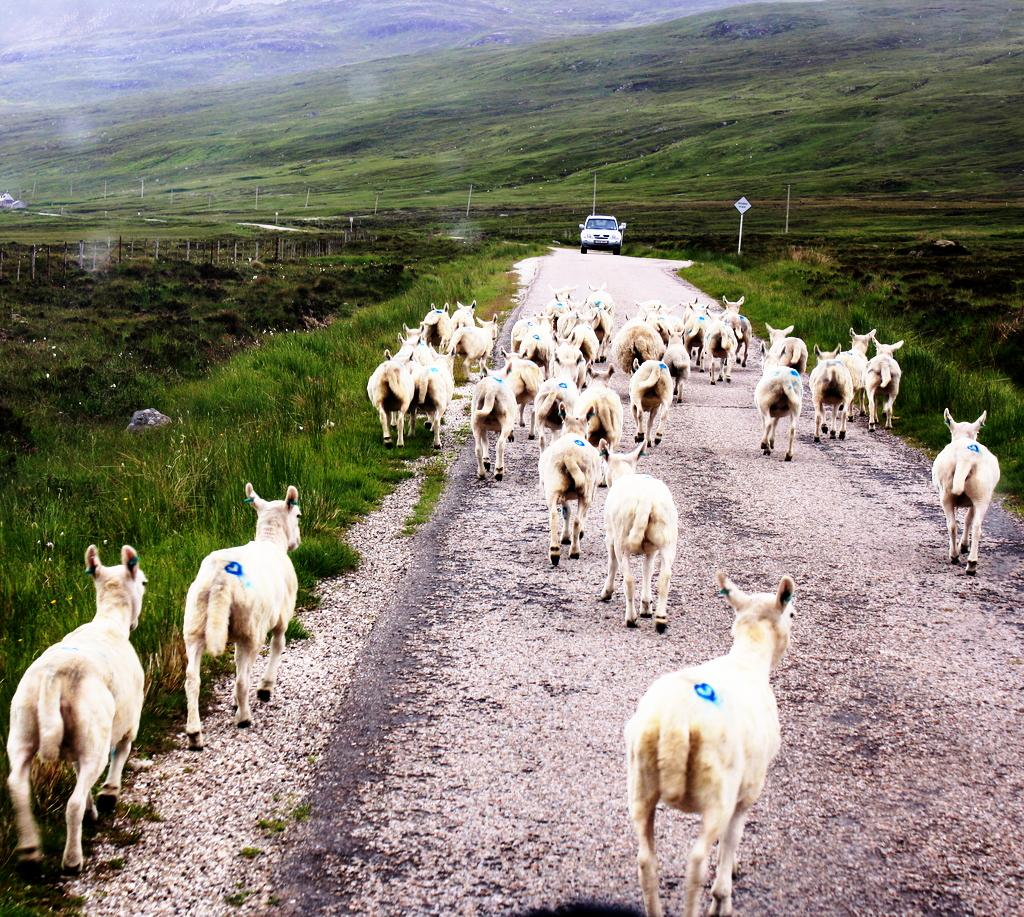Sheep: (618, 570, 793, 914), (2, 543, 146, 882), (180, 483, 303, 749), (594, 438, 680, 636), (926, 404, 1000, 574), (536, 397, 602, 567), (743, 340, 805, 463), (408, 344, 460, 457), (364, 348, 420, 452), (472, 358, 516, 487), (536, 349, 584, 466), (574, 360, 626, 457), (806, 336, 850, 448), (626, 354, 676, 452), (829, 324, 876, 420), (497, 345, 541, 440), (864, 336, 907, 433), (445, 314, 504, 382), (612, 306, 666, 378), (701, 304, 739, 387), (516, 312, 560, 382), (766, 321, 808, 393), (722, 292, 756, 370), (416, 296, 455, 362), (679, 299, 717, 365), (506, 305, 546, 363), (548, 329, 580, 396), (568, 306, 600, 372), (401, 322, 430, 394), (450, 296, 482, 353), (584, 300, 616, 356), (544, 281, 580, 323), (654, 304, 688, 342), (638, 307, 667, 347), (585, 276, 610, 318)
